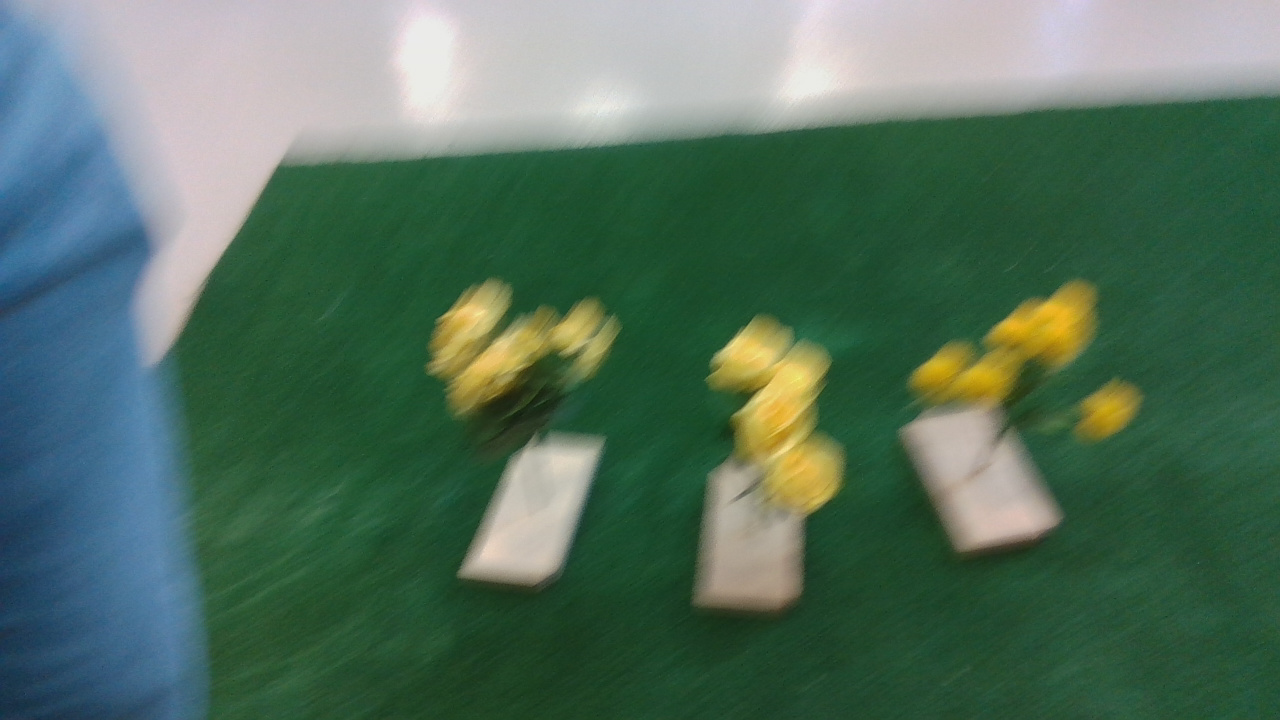dandelion: (893, 282, 1169, 452)
geranium: (424, 284, 631, 462)
rose: (696, 313, 848, 539)
